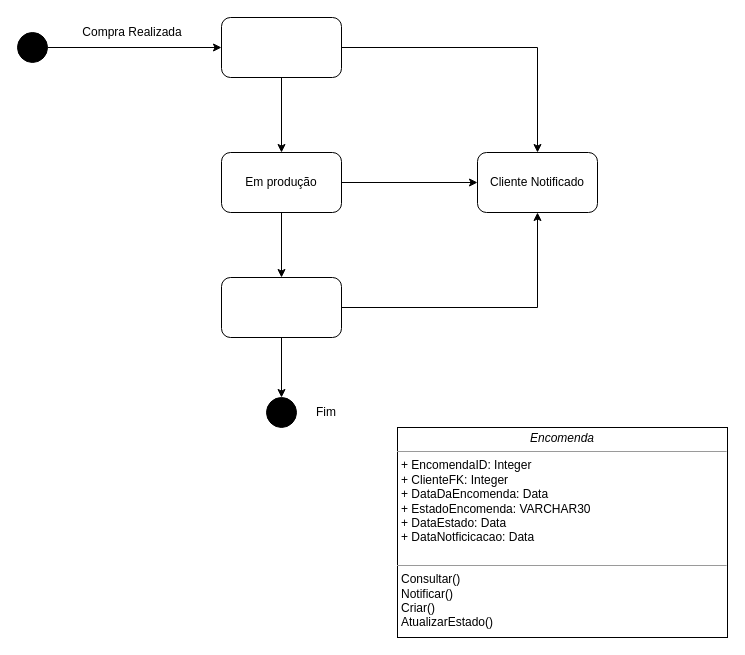
Image size: 745x655. Some labels were removed from this diagram. Each missing label, with the centre of its shape:
Finalizado: the point at 281,307
Pendente: the point at 281,47
